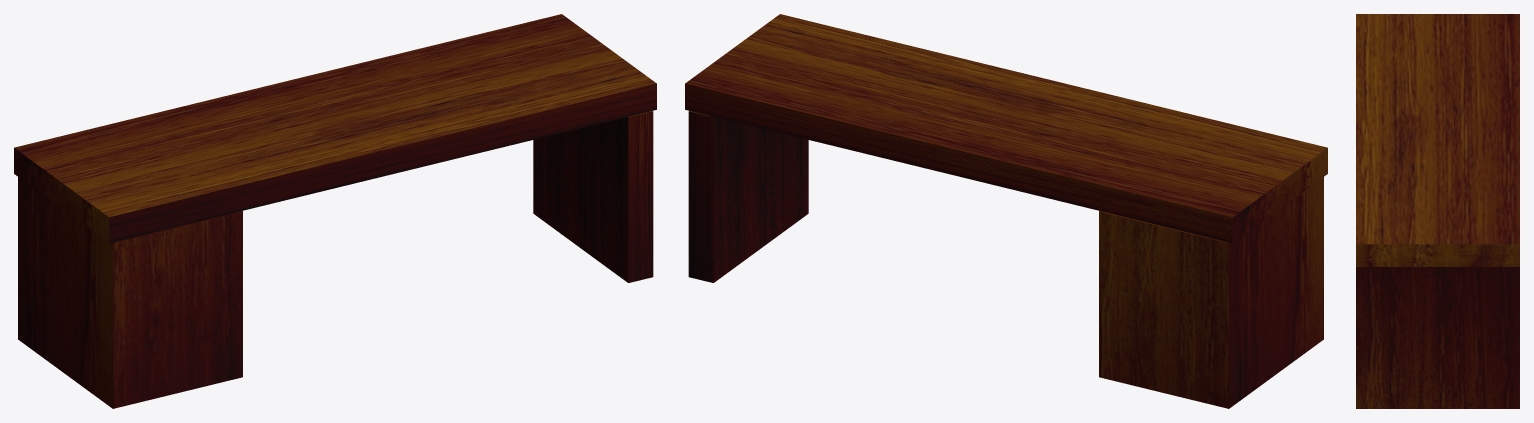
File: стол2.fbx
3 renders of one model, left to right at view 1: azimuth 30°, elevation 25°; view 2: azimuth 150°, elevation 25°; view 3: azimuth 270°, elevation 25°, orthographic. The views are drawn at different scales.
Visible parts, largest first — view 1: Cube.002; view 2: Cube.002; view 3: Cube.002.
Part boxes in pixels (x1,y1,x2,y2): Cube.002: (14, 14, 656, 408); Cube.002: (685, 14, 1327, 408); Cube.002: (1356, 14, 1519, 408).
Bounding box in the file's own units: 1309 × 440 × 393.
2 materials, 2 textured.
